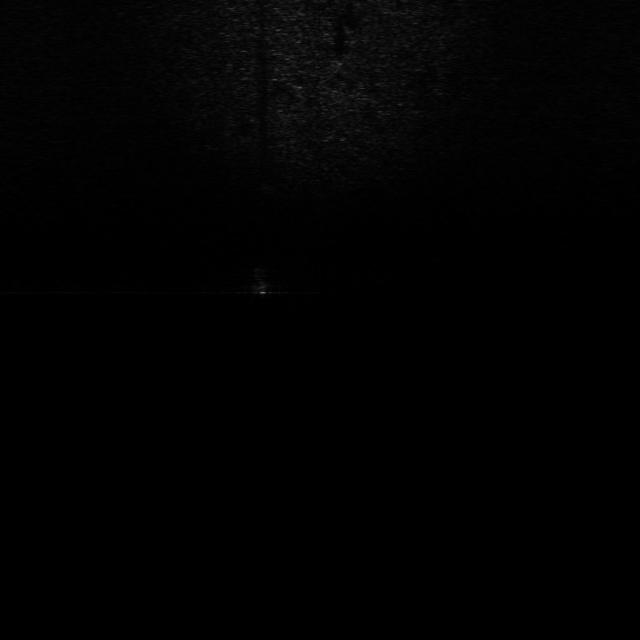human body: (242, 261, 282, 304)
